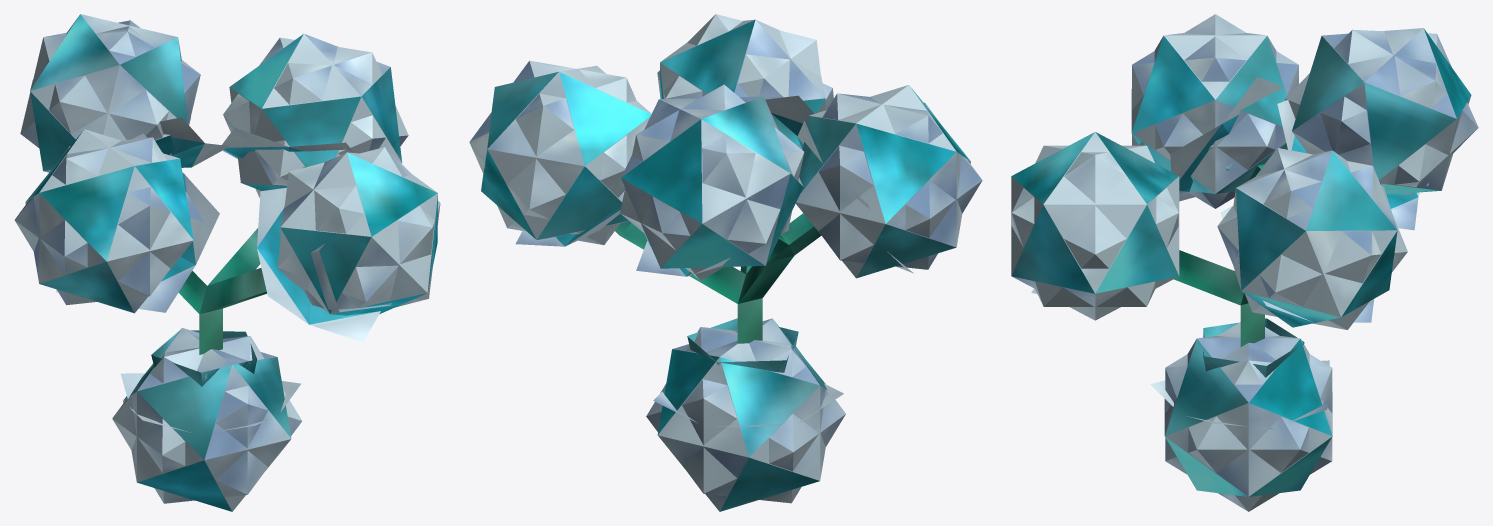
File: flowers v1.fbx
3 views of the same model, side by side, from view 1: azimuth 30°, elevation 25°; view 2: azimuth 150°, elevation 25°; view 3: azimuth 270°, elevation 25° (orthographic). The views are drawn at different scales.
Visible parts, largest first — view 1: Flower Type 2_1, Flower Type 2, Flower Type 1, Stalk Type 1, Flower Type 3, Flower Type 3_1, Flower type 1; view 2: Flower Type 2_1, Flower Type 2, Stalk Type 1, Flower Type 1, Flower Type 3, Flower type 1; view 3: Flower Type 2_1, Flower Type 2, Flower Type 1, Stalk Type 1, Flower Type 3, Flower type 1.
Boxes of the visible parts, x1,y1,x2,y2 form: Flower Type 2_1: (14, 14, 440, 315); Flower Type 2: (112, 328, 301, 511); Flower Type 1: (56, 117, 380, 342); Stalk Type 1: (178, 228, 266, 354); Flower Type 3: (151, 330, 257, 386); Flower Type 3_1: (304, 243, 391, 312); Flower type 1: (120, 373, 300, 432); Flower Type 2_1: (469, 14, 982, 280); Flower Type 2: (646, 318, 845, 511); Stalk Type 1: (615, 213, 821, 343); Flower Type 1: (515, 95, 913, 276); Flower Type 3: (687, 318, 798, 372); Flower type 1: (653, 383, 843, 426); Flower Type 2_1: (1011, 14, 1478, 329); Flower Type 2: (1164, 322, 1332, 511); Flower Type 1: (1031, 77, 1419, 322); Stalk Type 1: (1174, 164, 1264, 346); Flower Type 3: (1203, 318, 1304, 377); Flower type 1: (1150, 360, 1329, 428).
Size of the model in its own units: 0.7253 by 0.7517 by 0.7137.
3 materials, 3 textured.
